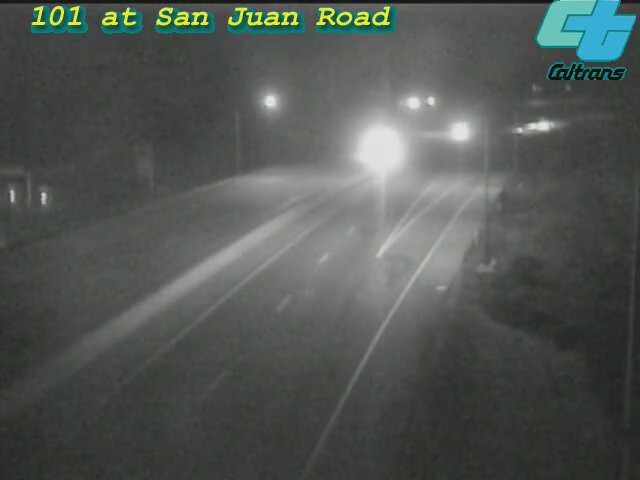vehicle: (350, 126, 400, 176), (431, 106, 481, 156), (526, 97, 576, 147), (507, 99, 557, 149), (494, 105, 544, 155)
